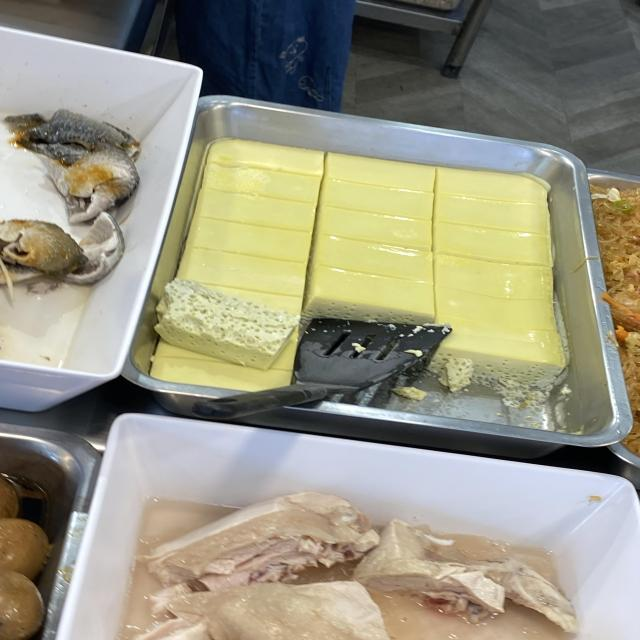steamed egg: (216, 177, 533, 311)
